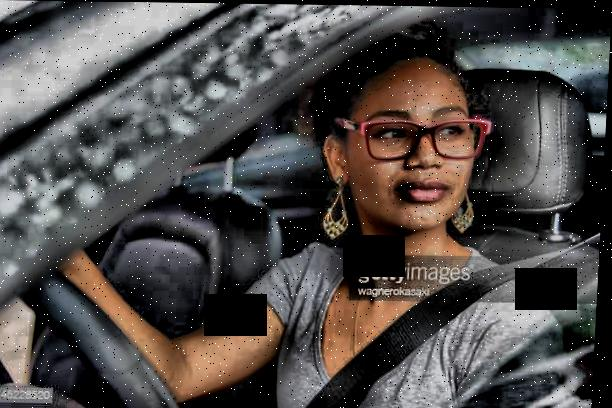seatbelt: (299, 225, 601, 408)
